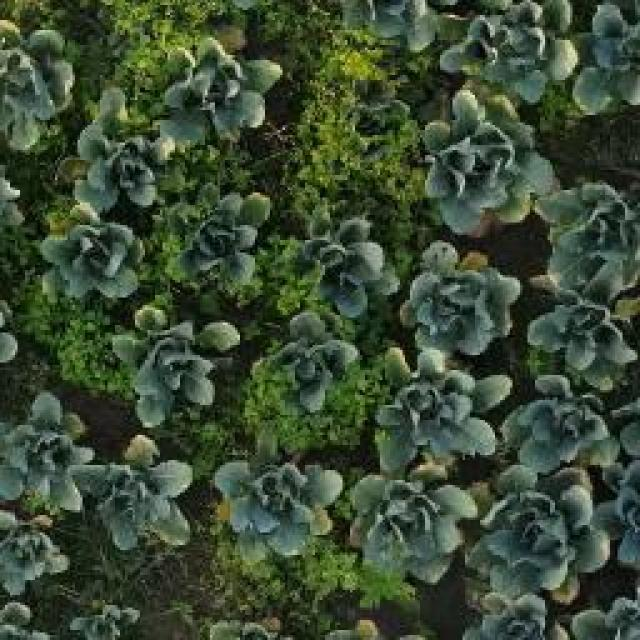cabbage: (114, 308, 245, 429), (380, 349, 510, 466), (350, 475, 478, 585), (425, 94, 537, 218), (35, 188, 145, 308), (478, 470, 588, 588), (408, 250, 518, 368), (80, 437, 191, 551), (530, 175, 640, 290), (215, 461, 344, 556), (0, 395, 88, 518), (291, 218, 398, 318), (80, 87, 172, 203), (452, 0, 572, 88), (162, 188, 262, 290), (176, 43, 285, 135), (525, 299, 640, 383), (0, 16, 70, 150), (506, 381, 608, 465), (269, 316, 359, 410), (575, 1, 640, 108), (4, 520, 74, 592), (468, 590, 560, 640)
